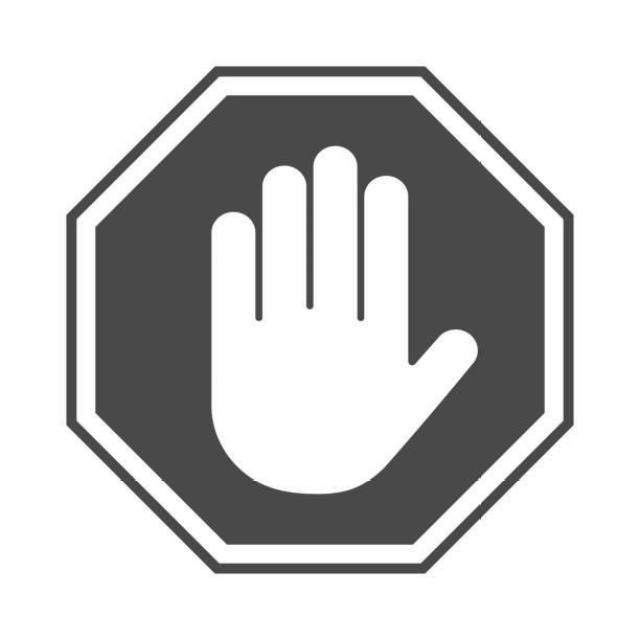Stop-sign: (36, 37, 586, 586)
